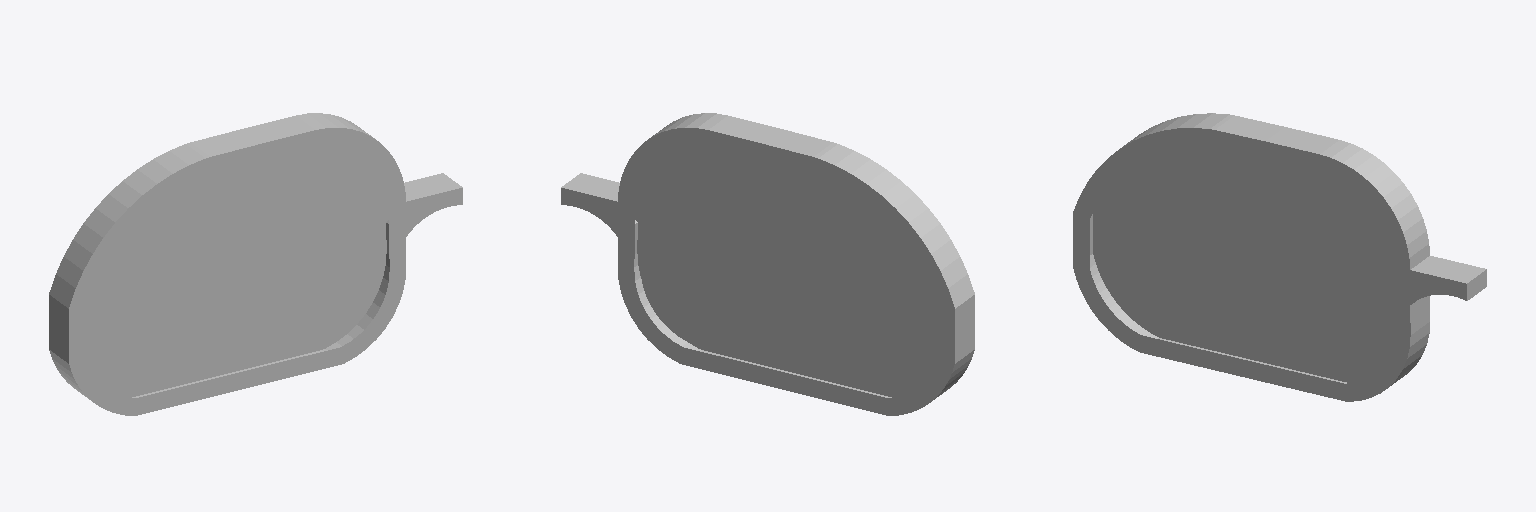
Rendered from original-4.obj.
3 renders of one model, left to right at view 1: azimuth 30°, elevation 25°; view 2: azimuth 150°, elevation 25°; view 3: azimuth 330°, elevation 25°, orthographic.
Visible parts, largest first — view 1: mesh2/mesh2-geometry#mesh2-geometry; view 2: mesh2/mesh2-geometry#mesh2-geometry; view 3: mesh2/mesh2-geometry#mesh2-geometry.
Boxes of the visible parts, x1=… form: mesh2/mesh2-geometry#mesh2-geometry: x1=49, y1=113, x2=462, y2=415; mesh2/mesh2-geometry#mesh2-geometry: x1=561, y1=113, x2=974, y2=415; mesh2/mesh2-geometry#mesh2-geometry: x1=1073, y1=113, x2=1486, y2=401.
Bounding box in the file's own units: 0.4661 × 0.2733 × 0.0408.